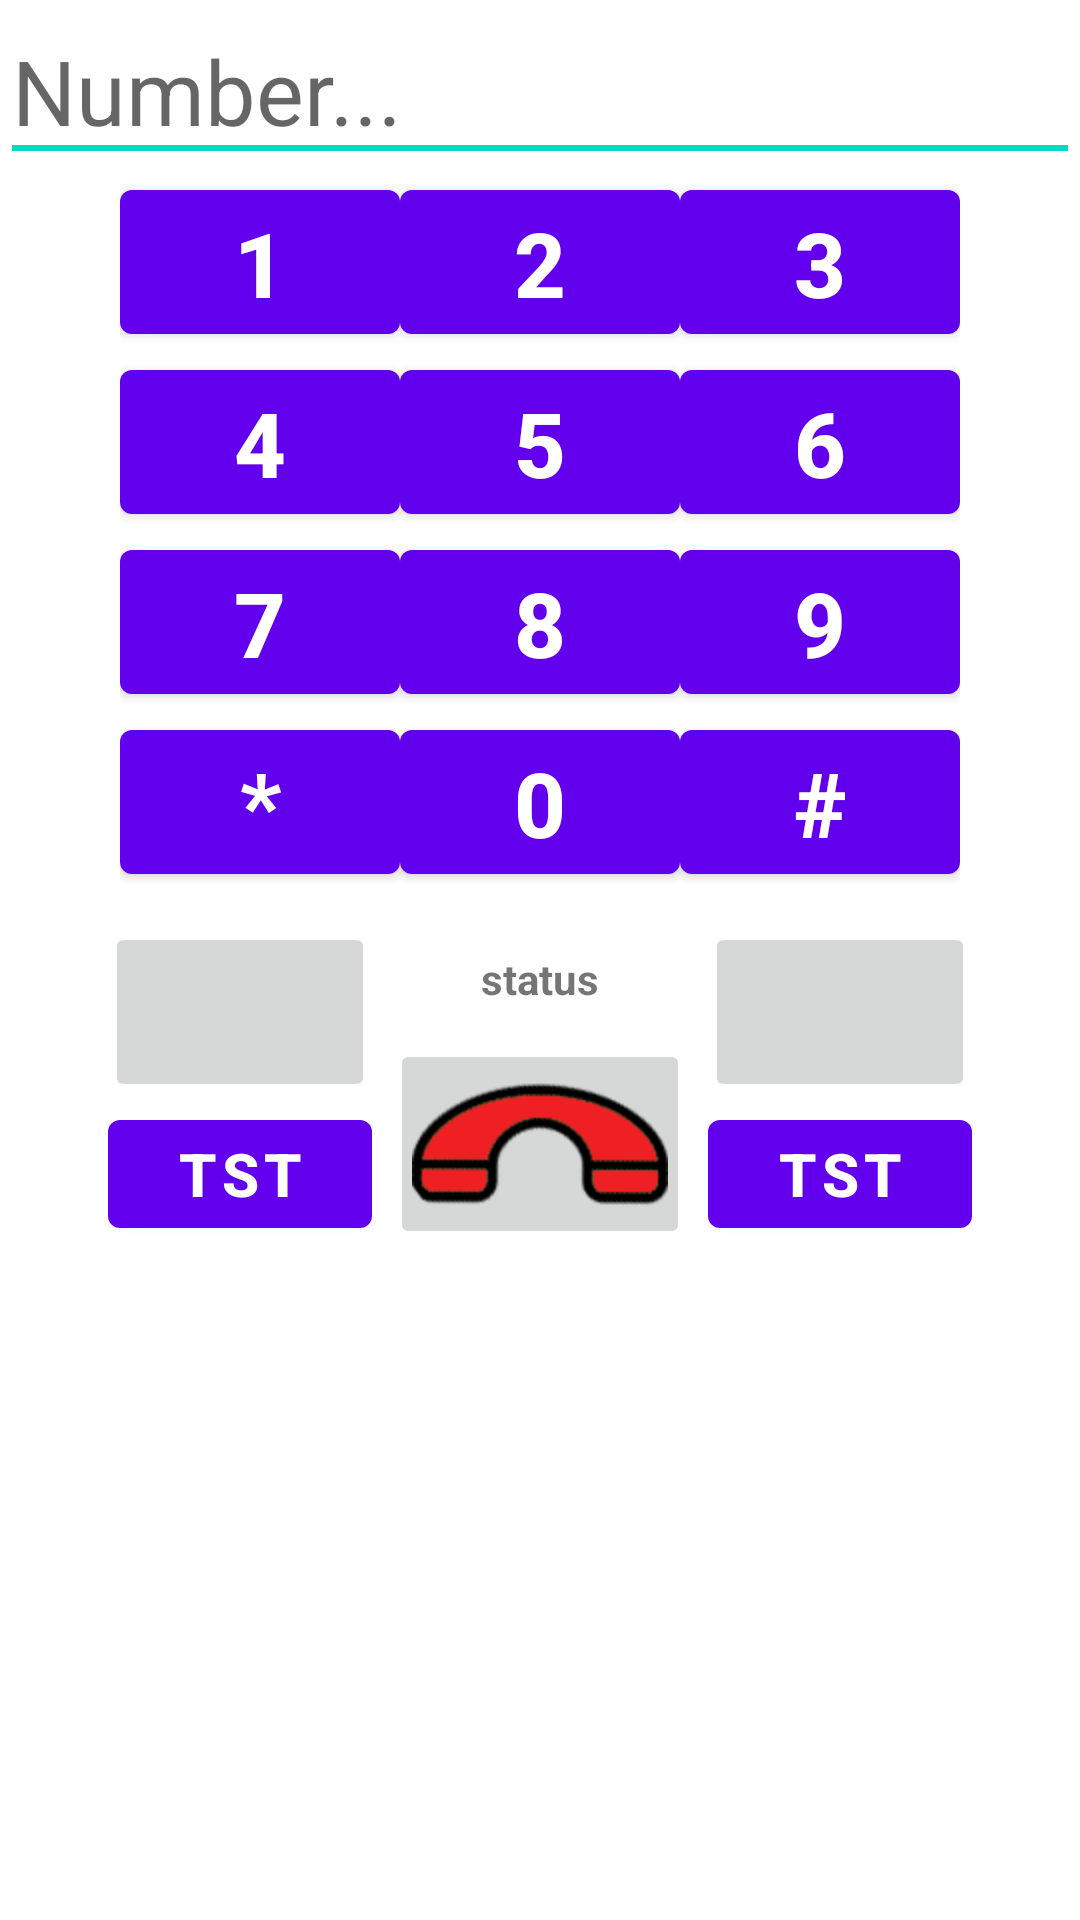

Named icons in this screenshot (1080×1920) and their centers, (x,y):
telep: (540,1144)
